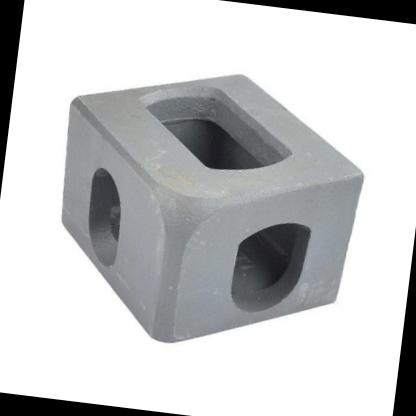CornerCasting: (44, 46, 370, 366)
